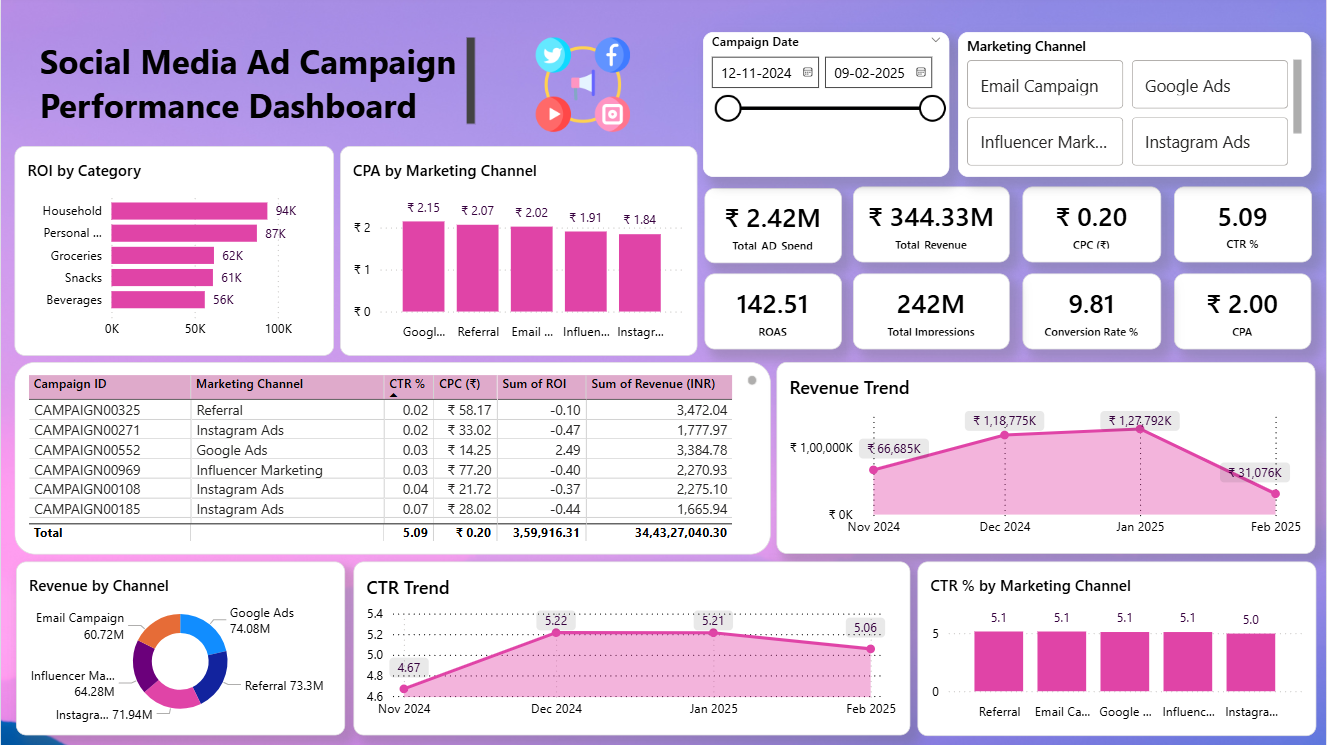

The page's visual inventory and layout, read from the dashboard file:
{"tool":"powerbi","page":{"name":"Page 2","canvas":[1280,720],"ordinal":2},"visuals":[{"type":"card","fields":{"Values":["Measures_.Total_AD_Spend"]},"box":[679.2,182.5,132.5,72.5],"z":0},{"type":"card","fields":{"Values":["Measures_.Total_Revenue"]},"box":[823.5,180.9,151.5,73.5],"z":1000},{"type":"card","fields":{"Values":["Measures_.CPC (₹)"]},"box":[986.8,180.9,133.8,73.5],"z":2000},{"type":"card","fields":{"Values":["Measures_.CTR %"]},"box":[1132.8,181.3,133,73],"z":3000},{"type":"card","fields":{"Values":["Measures_.CPA"]},"box":[1133.8,264.7,132.4,73.5],"z":4000},{"type":"card","fields":{"Values":["Measures_.ROAS"]},"box":[679.4,264.7,132.4,73.5],"z":5000},{"type":"card","fields":{"Values":["Measures_.Conversion Rate %"]},"box":[986.8,264.7,133.8,73.5],"z":6000},{"type":"card","fields":{"Values":["Measures_.Total Impressions"]},"box":[823.5,264.7,151.5,73.5],"z":7000},{"type":"donutChart","title":"Revenue by Channel","fields":{"Category":["marketing.Marketing Channel"],"Y":["Sum(marketing.Revenue (INR))"]},"box":[14,544,318,168],"z":8000},{"type":"barChart","title":"ROI by Category","fields":{"Category":["marketing.Category"],"Y":["Sum(marketing.ROI)"]},"box":[13.2,142.6,308.8,202.9],"z":9000},{"type":"tableEx","fields":{"Values":["marketing.Campaign ID","marketing.Marketing Channel","Measures_.CTR %","Measures_.CPC (₹)","Sum(marketing.ROI)","Sum(marketing.Revenue (INR))"]},"box":[12.9,350.9,730.5,186.2],"z":10000},{"type":"areaChart","title":"Revenue Trend","fields":{"Category":["marketing.Campaign Date.Variation.Date Hierarchy.Year","marketing.Campaign Date.Variation.Date Hierarchy.Month"],"Y":["Measures_.Total_Revenue"]},"box":[749.8,351.3,520.5,185.4],"z":11000},{"type":"areaChart","title":"CTR Trend","fields":{"Category":["marketing.Campaign Date.Variation.Date Hierarchy.Year","marketing.Campaign Date.Variation.Date Hierarchy.Month"],"Y":["Measures_.CTR %"]},"box":[340,544,538,168],"z":12000},{"type":"clusteredColumnChart","fields":{"Category":["marketing.Marketing Channel"],"Y":["Measures_.CTR %"]},"box":[885,543.3,385,168.3],"z":13000},{"type":"clusteredColumnChart","fields":{"Category":["marketing.Marketing Channel"],"Y":["Measures_.CPA"]},"box":[327.9,142.6,345.6,202.9],"z":14000},{"type":"slicer","fields":{"Values":["marketing.Campaign Date"]},"box":[677.9,32.4,238.2,139.7],"z":15000},{"type":"advancedSlicerVisual","fields":{"Values":["marketing.Marketing Channel"]},"box":[925,32.4,341.2,139.7],"z":16000},{"type":"textbox","box":[31.5,31.5,431.1,94.5],"z":17000},{"type":"image","box":[463.3,31.8,196.8,101.5],"z":18000}]}

Visuals, with their boxes in screenshot pixels (x1, y1, x2, y2), scaled from the page's 1280x720 canvas onto the 1327x745 screenshot:
card - Measures_.Total_AD_Spend: (x1=704, y1=189, x2=842, y2=264)
card - Measures_.Total_Revenue: (x1=854, y1=187, x2=1011, y2=263)
card - Measures_.CPC (₹): (x1=1023, y1=187, x2=1162, y2=263)
card - Measures_.CTR %: (x1=1174, y1=188, x2=1312, y2=263)
card - Measures_.CPA: (x1=1175, y1=274, x2=1313, y2=350)
card - Measures_.ROAS: (x1=704, y1=274, x2=842, y2=350)
card - Measures_.Conversion Rate %: (x1=1023, y1=274, x2=1162, y2=350)
card - Measures_.Total Impressions: (x1=854, y1=274, x2=1011, y2=350)
"Revenue by Channel" donutChart: (x1=15, y1=563, x2=344, y2=737)
"ROI by Category" barChart: (x1=14, y1=148, x2=334, y2=357)
tableEx - marketing.Campaign ID x marketing.Marketing Channel: (x1=13, y1=363, x2=771, y2=556)
"Revenue Trend" areaChart: (x1=777, y1=363, x2=1317, y2=555)
"CTR Trend" areaChart: (x1=352, y1=563, x2=910, y2=737)
clusteredColumnChart - marketing.Marketing Channel x Measures_.CTR %: (x1=917, y1=562, x2=1317, y2=736)
clusteredColumnChart - marketing.Marketing Channel x Measures_.CPA: (x1=340, y1=148, x2=698, y2=357)
slicer - marketing.Campaign Date: (x1=703, y1=34, x2=950, y2=178)
advancedSlicerVisual - marketing.Marketing Channel: (x1=959, y1=34, x2=1313, y2=178)
textbox: (x1=33, y1=33, x2=480, y2=130)
image: (x1=480, y1=33, x2=684, y2=138)
